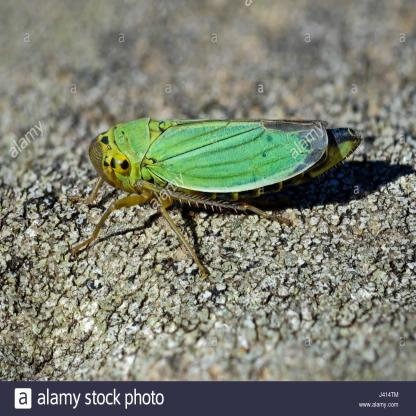Green-Leafhopper: (76, 107, 362, 259)
